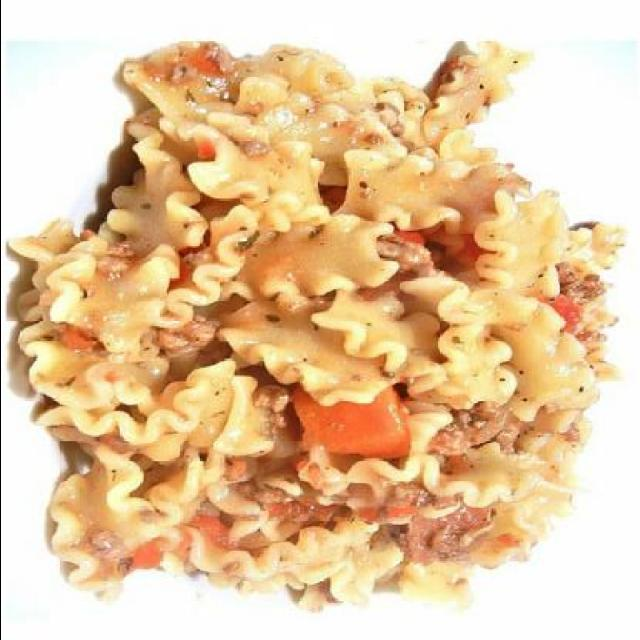Pasta al ragu: (58, 66, 596, 580)
